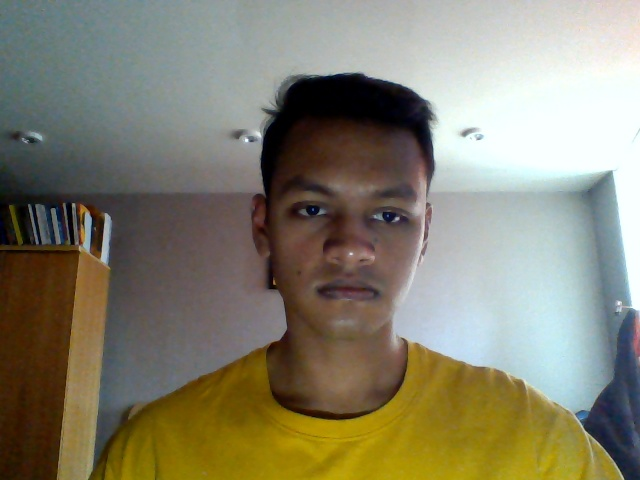no_mask: (260, 228, 423, 340)
